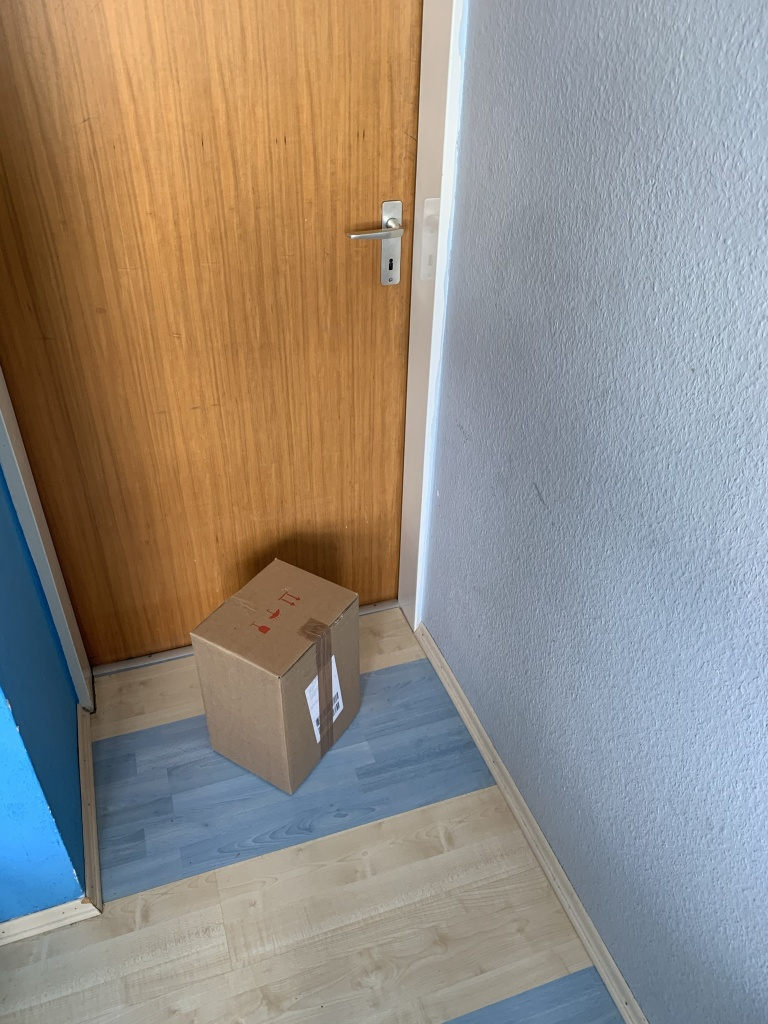good-parcel: (176, 544, 406, 796)
